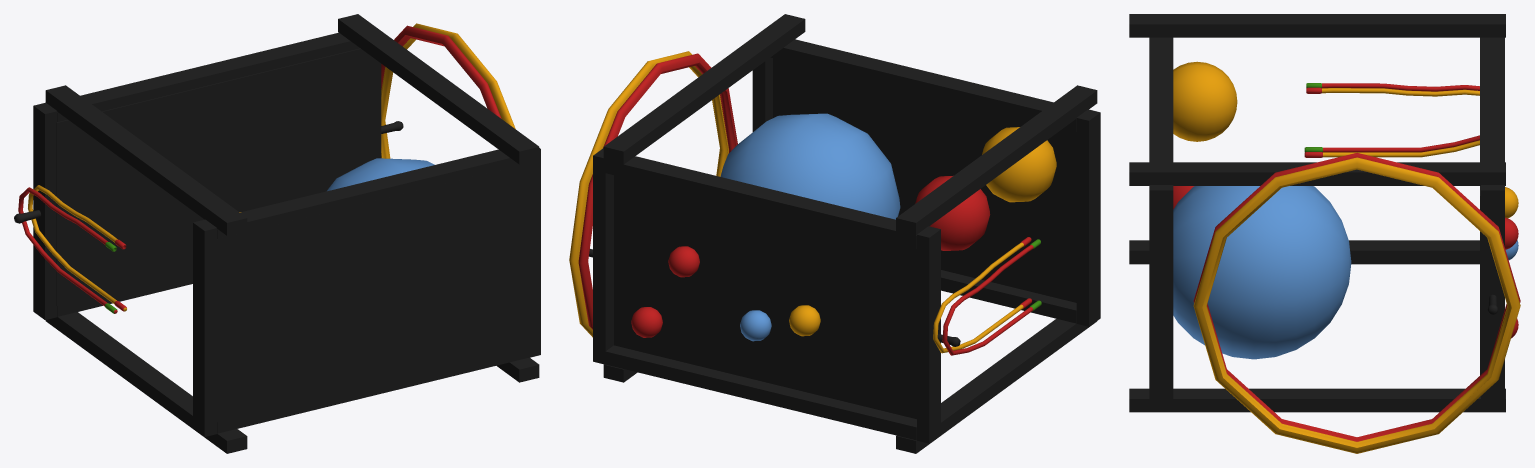
The picture shows the model from 3 angles, left to right: view 1: azimuth 30°, elevation 25°; view 2: azimuth 150°, elevation 25°; view 3: azimuth 270°, elevation 25°; orthographic projection. The views are drawn at different scales.
Parts seen in each view (by area): view 1: Circle; view 2: Circle; view 3: Circle.
Part boxes in pixels (x1=…): Circle: x1=14, y1=14, x2=540, y2=453; Circle: x1=569, y1=14, x2=1100, y2=453; Circle: x1=1129, y1=14, x2=1520, y2=453.
Bounding box in the file's own units: 105 × 74 × 88.52.
